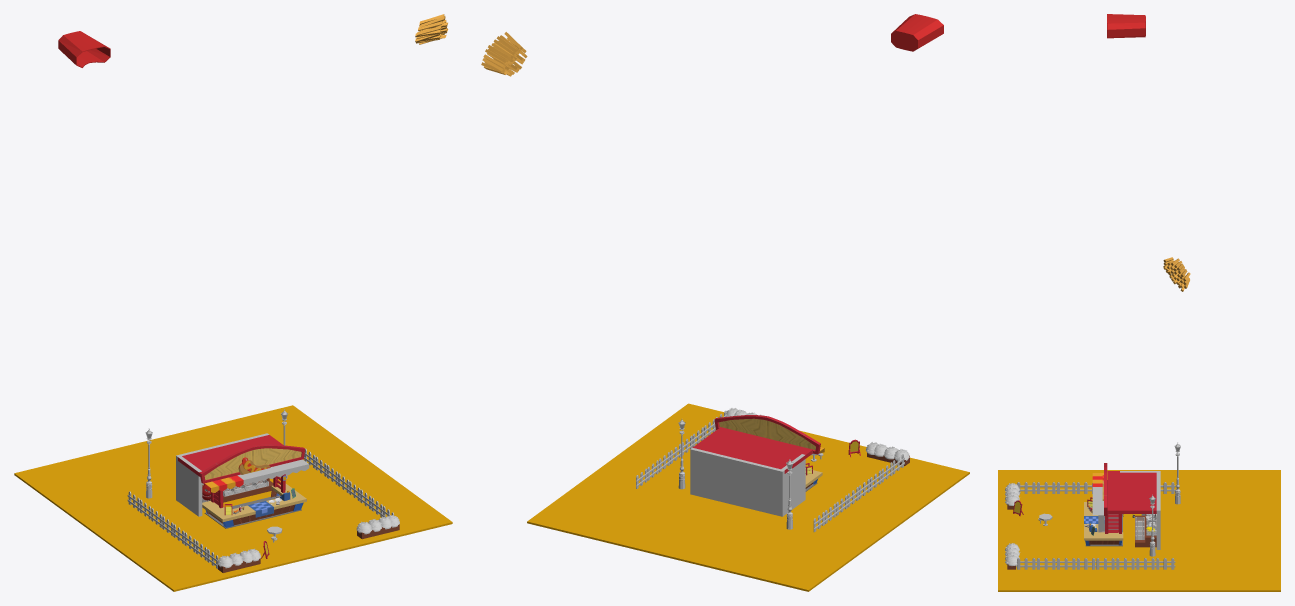
File: House.fbx
The picture shows the model from 3 angles, left to right: view 1: azimuth 30°, elevation 25°; view 2: azimuth 150°, elevation 25°; view 3: azimuth 270°, elevation 25°; orthographic projection. The views are drawn at different scales.
Visible parts, largest first — view 1: Plane.001_23, Faixada_6, Object_5.010, Cube_4, Cube_4.003, object 60, Object_4.018; view 2: Plane.001_23, Cube_4.002, Cube_4, Faixada_6, Object_5.010, Object_4.018, Cube_4.003; view 3: Plane.001_23, Cube_4, Object_5.010, Object_4.018, object 60, Cylinder_0, Cube_4.002.
Part boxes in pixels (box(x1,y1,x2,y2)): Plane.001_23: box(14, 405, 452, 591); Faixada_6: box(200, 444, 305, 483); Object_5.010: box(58, 31, 110, 67); Cube_4: box(178, 435, 283, 476); Cube_4.003: box(178, 456, 202, 516); object 60: box(202, 483, 306, 522); Object_4.018: box(415, 14, 448, 44); Plane.001_23: box(527, 403, 969, 591); Cube_4.002: box(690, 448, 784, 516); Cube_4: box(692, 427, 812, 473); Faixada_6: box(714, 415, 820, 454); Object_5.010: box(891, 14, 943, 51); Object_4.018: box(481, 32, 527, 76); Cube_4.003: box(781, 454, 805, 514); Plane.001_23: box(998, 470, 1280, 591); Cube_4: box(1107, 471, 1156, 513); Object_5.010: box(1107, 14, 1145, 38); Object_4.018: box(1163, 257, 1190, 291); object 60: box(1084, 502, 1123, 540); Cylinder_0: box(1149, 442, 1180, 556); Cube_4.002: box(1156, 471, 1160, 549).
Size of the model in its own units: 1243 by 1445 by 832.
